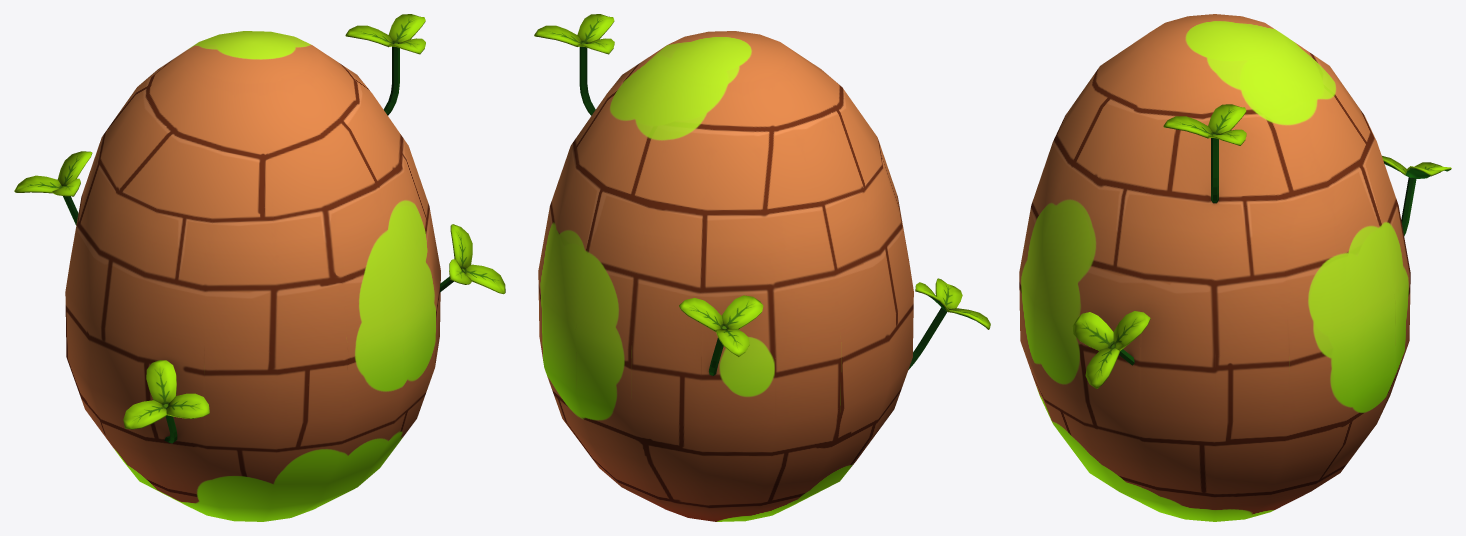
The model's file is egg2map7.fbx.
3 views of the same model, side by side, from view 1: azimuth 30°, elevation 25°; view 2: azimuth 150°, elevation 25°; view 3: azimuth 270°, elevation 25° (orthographic). The views are drawn at different scales.
Parts seen in each view (by area): view 1: egg2map7; view 2: egg2map7; view 3: egg2map7.
Part boxes in pixels (left/top/right/bottom): egg2map7: left=14, top=14, right=505, bottom=521; egg2map7: left=534, top=14, right=990, bottom=521; egg2map7: left=1019, top=14, right=1451, bottom=521.
Size of the model in its own units: 36.9 by 41.23 by 34.
Materials: 1 (1 with a texture image).
